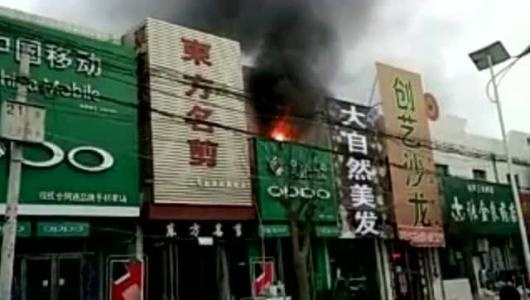fire: (268, 118, 297, 141)
